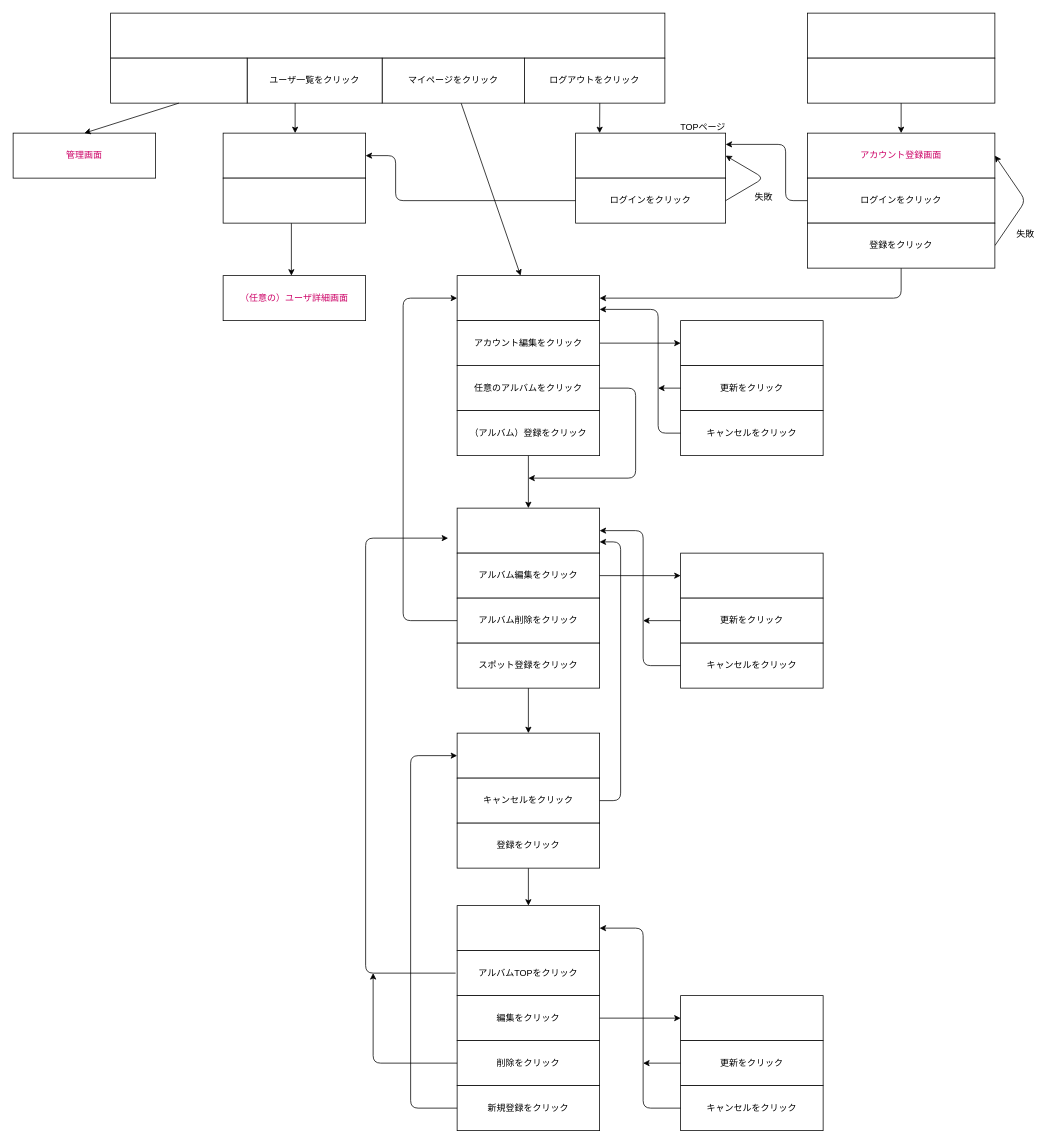
The diagram is 1061 pixels wide and 1144 high, and some of its shapes have lost their labels. The centre of each missing label's shape, as x and y in pixels:
アカウント登録をクリック: the point at 901,80
アカウント編集画面: the point at 751,343
アルバム編集画面: the point at 751,575
アルバム詳細画面: the point at 528,530
グローバルナビゲーション（ログアウト中）: the point at 901,35
グローバルナビゲーション（ログイン中）: the point at 387,35
スポット作成画面: the point at 528,755
スポット編集画面: the point at 751,1018
スポット詳細画面: the point at 528,928
マイページ詳細画面: the point at 528,298
ユーザ一覧画面: the point at 294,155
ログイン画面: the point at 650,155
任意のユーザをクリック: the point at 294,200
管理画面をクリック: the point at 178,80
